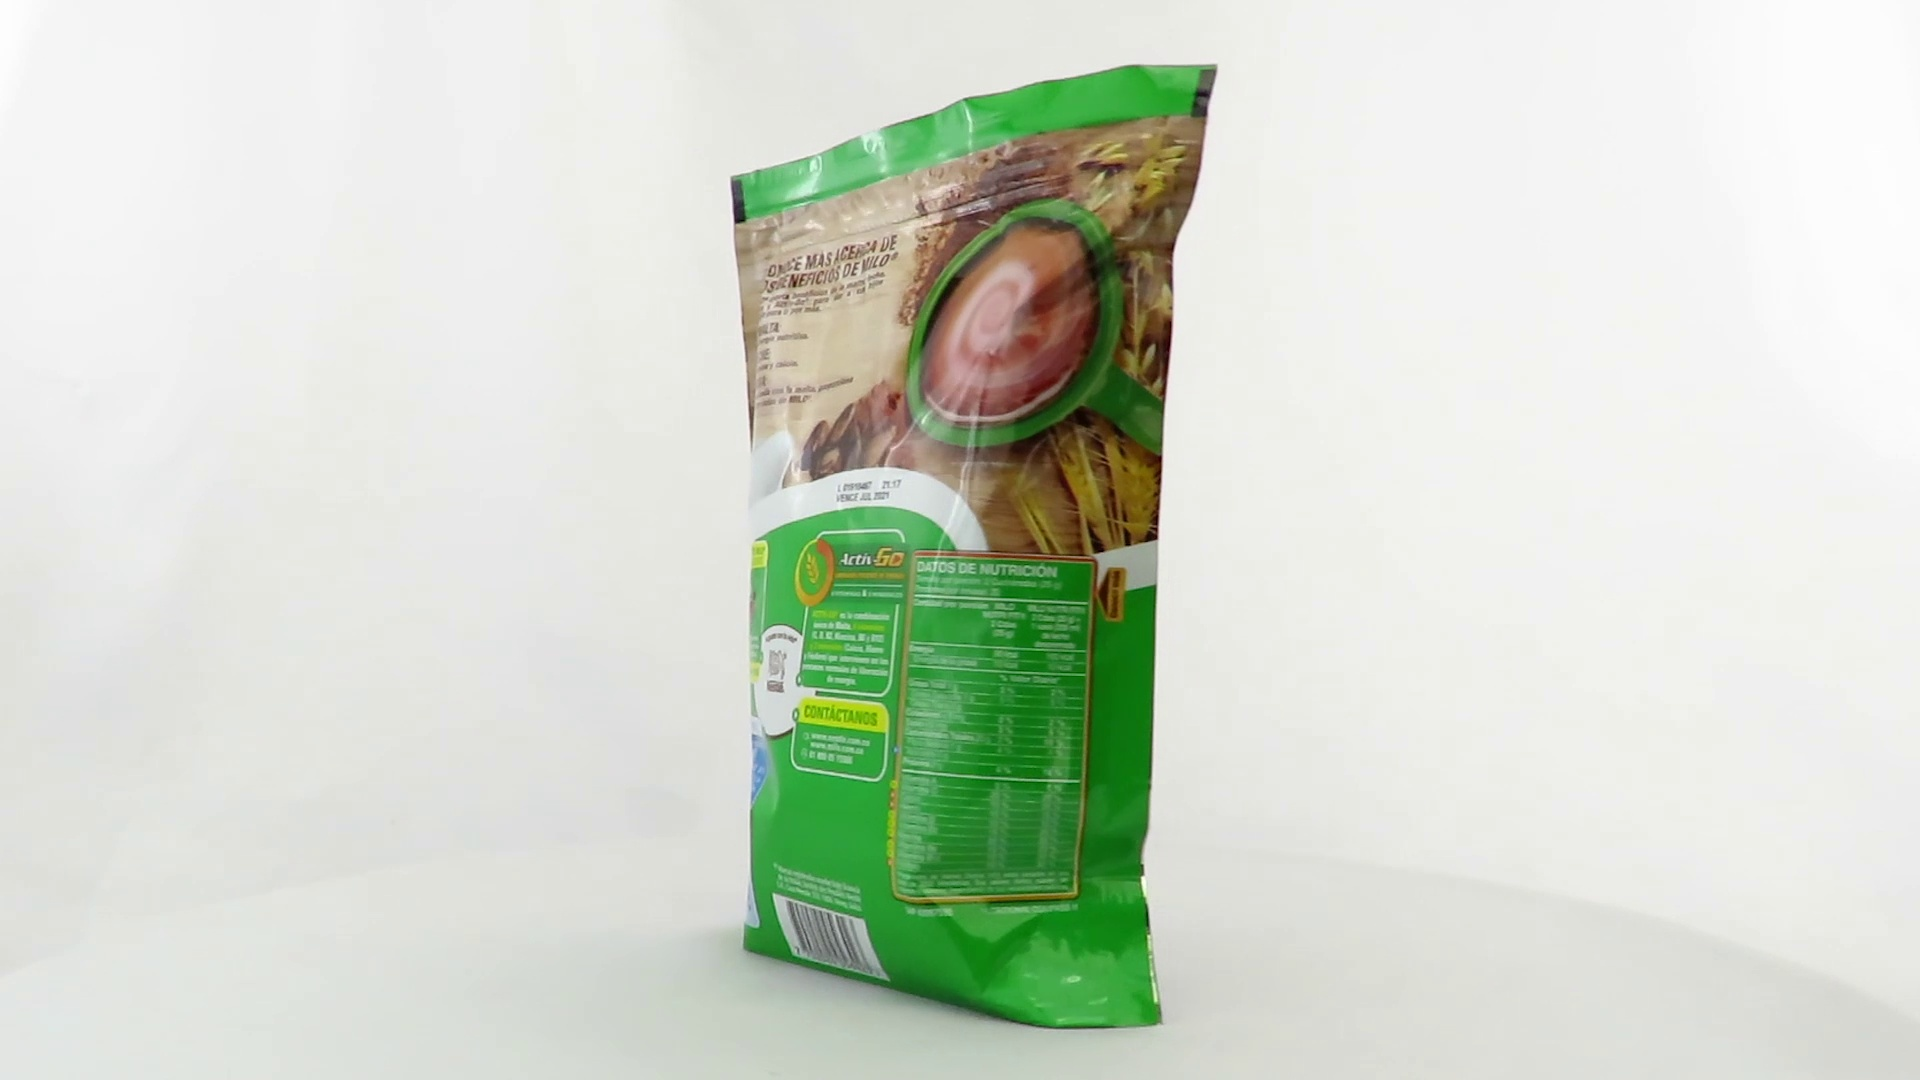COL0170205DYP50000: (725, 59, 1224, 1036)
